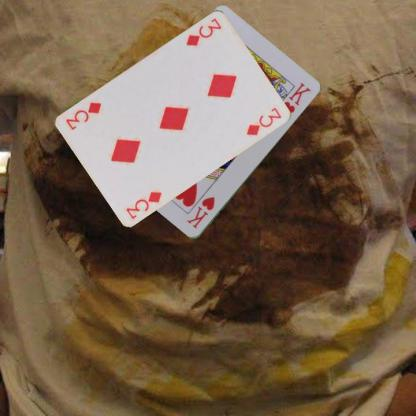3d: (183, 15, 223, 47), (123, 188, 163, 220)
Kh: (184, 194, 216, 231)
